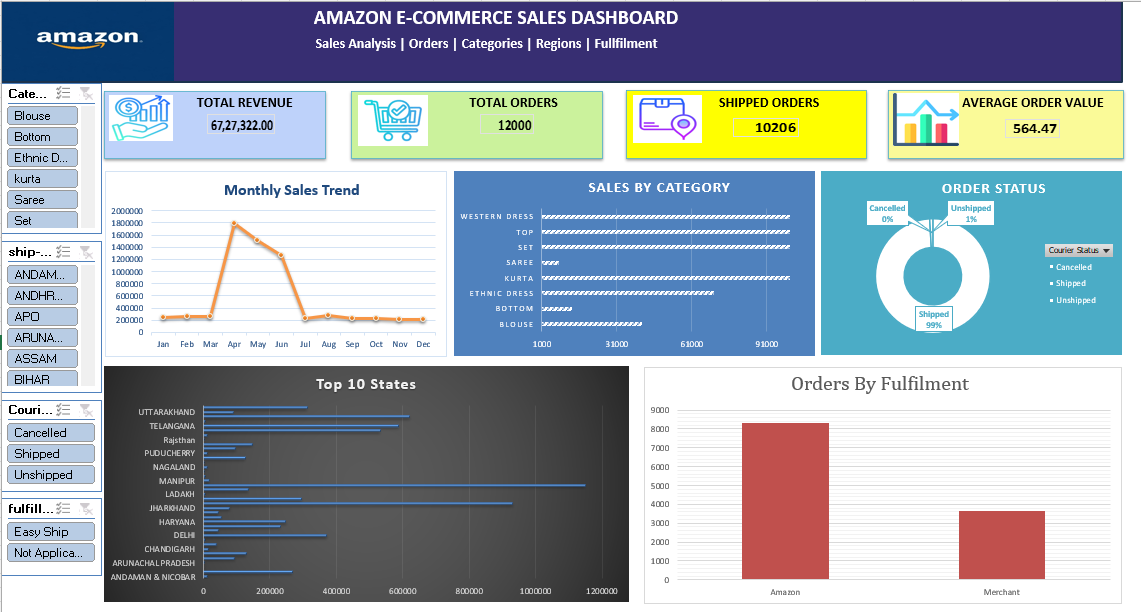

This screenshot's page, from the dashboard's own definition file:
{"tool":"powerbi","page":{"name":"DASHBOARD","canvas":[1920,1080],"ordinal":0},"visuals":[{"type":"shape","box":[0,0,1920.4,148.2],"z":0},{"type":"image","box":[0,0,391.1,148.2],"z":1000},{"type":"textbox","box":[632.1,34,566,147.2],"z":2000},{"type":"cardVisual","fields":{"Data":["Amazon_Ecommerce_Project.TOTAL_REVENUE"]},"box":[0,162.6,432,146],"z":3000},{"type":"cardVisual","fields":{"Data":["Amazon_Ecommerce_Project.Total Quantity"]},"box":[944.8,162.6,506,146],"z":4000},{"type":"cardVisual","fields":{"Data":["Amazon_Ecommerce_Project.AVERAGE"]},"box":[450.8,162.6,479.6,146.1],"z":5000},{"type":"cardVisual","fields":{"Data":["Amazon_Ecommerce_Project.Total Orders"]},"box":[1465.5,162.6,454,146],"z":6000},{"type":"lineChart","title":"TOTAL AMOUNT BY MONTH","fields":{"Category":["Amazon_Ecommerce_Project.Date.Variation.Date Hierarchy.Month","Amazon_Ecommerce_Project.Date.Variation.Date Hierarchy.Day"],"Y":["Sum(Amazon_Ecommerce_Project.Revenue_Amount)"]},"box":[0,323.2,796.6,389],"z":7000},{"type":"clusteredBarChart","title":"TOTAL AMOUNT BY  TOP 10 CITIES","fields":{"Category":["Amazon_Ecommerce_Project.Ship-City"],"Y":["Sum(Amazon_Ecommerce_Project.Revenue_Amount)"]},"box":[806.9,323.2,627.8,389],"z":8000},{"type":"donutChart","title":"ORDER STATUS","fields":{"Category":["Amazon_Ecommerce_Project.Courier Status"],"Y":["Sum(Amazon_Ecommerce_Project.Qty)"]},"box":[0,724.5,656.6,356.1],"z":9000},{"type":"clusteredBarChart","title":"TOTAL AMOUNT BY  CATEGORY","fields":{"Category":["Amazon_Ecommerce_Project.Category"],"Y":["Sum(Amazon_Ecommerce_Project.Revenue_Amount)"]},"box":[673.1,724.5,761.6,356.1],"z":10000},{"type":"slicer","fields":{"Values":["Amazon_Ecommerce_Project.Month"]},"box":[1720.8,323.2,199.7,757.5],"z":11000},{"type":"slicer","fields":{"Values":["Amazon_Ecommerce_Project.Ship-State"]},"box":[1451.1,323.2,255.2,158.5],"z":12000},{"type":"slicer","fields":{"Values":["Amazon_Ecommerce_Project.Category"]},"box":[1451.1,520.8,259.3,160.5],"z":13000},{"type":"slicer","fields":{"Values":["Amazon_Ecommerce_Project.Courier Status"]},"box":[1451.1,724.5,259.3,158.5],"z":14000},{"type":"slicer","fields":{"Values":["Amazon_Ecommerce_Project.Fulfilment"]},"box":[1451.1,922.1,259.3,158.5],"z":14001}]}

Visuals, with their boxes on the page's 1920x1080 design canvas (x1, y1, x2, y2). These are canvas units, not pixel positions in the 1141x612 screenshot, which may show the page scaled, cropped or inside an application window:
shape: bbox=[0, 0, 1920, 148]
image: bbox=[0, 0, 391, 148]
textbox: bbox=[632, 34, 1198, 181]
cardVisual - Amazon_Ecommerce_Project.TOTAL_REVENUE: bbox=[0, 163, 432, 309]
cardVisual - Amazon_Ecommerce_Project.Total Quantity: bbox=[945, 163, 1451, 309]
cardVisual - Amazon_Ecommerce_Project.AVERAGE: bbox=[451, 163, 930, 309]
cardVisual - Amazon_Ecommerce_Project.Total Orders: bbox=[1466, 163, 1920, 309]
"TOTAL AMOUNT BY MONTH" lineChart: bbox=[0, 323, 797, 712]
"TOTAL AMOUNT BY  TOP 10 CITIES" clusteredBarChart: bbox=[807, 323, 1435, 712]
"ORDER STATUS" donutChart: bbox=[0, 724, 657, 1081]
"TOTAL AMOUNT BY  CATEGORY" clusteredBarChart: bbox=[673, 724, 1435, 1081]
slicer - Amazon_Ecommerce_Project.Month: bbox=[1721, 323, 1920, 1081]
slicer - Amazon_Ecommerce_Project.Ship-State: bbox=[1451, 323, 1706, 482]
slicer - Amazon_Ecommerce_Project.Category: bbox=[1451, 521, 1710, 681]
slicer - Amazon_Ecommerce_Project.Courier Status: bbox=[1451, 724, 1710, 883]
slicer - Amazon_Ecommerce_Project.Fulfilment: bbox=[1451, 922, 1710, 1081]
